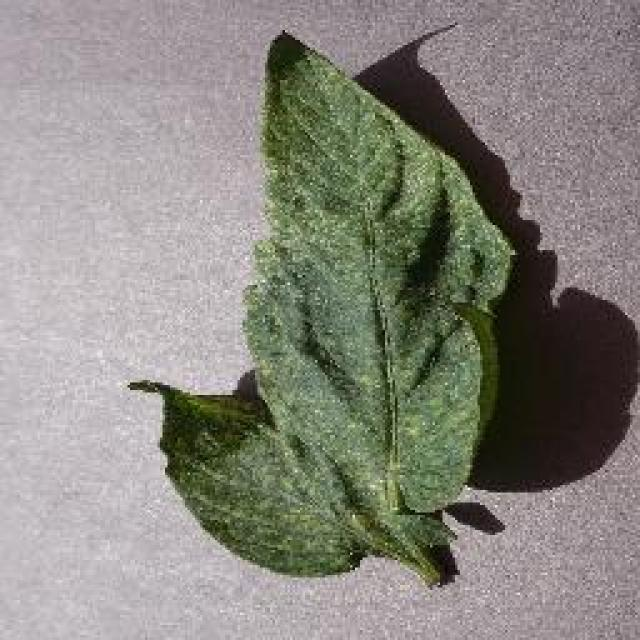Tomato mosaic virus leaf: (242, 31, 526, 516), (128, 386, 370, 579)
